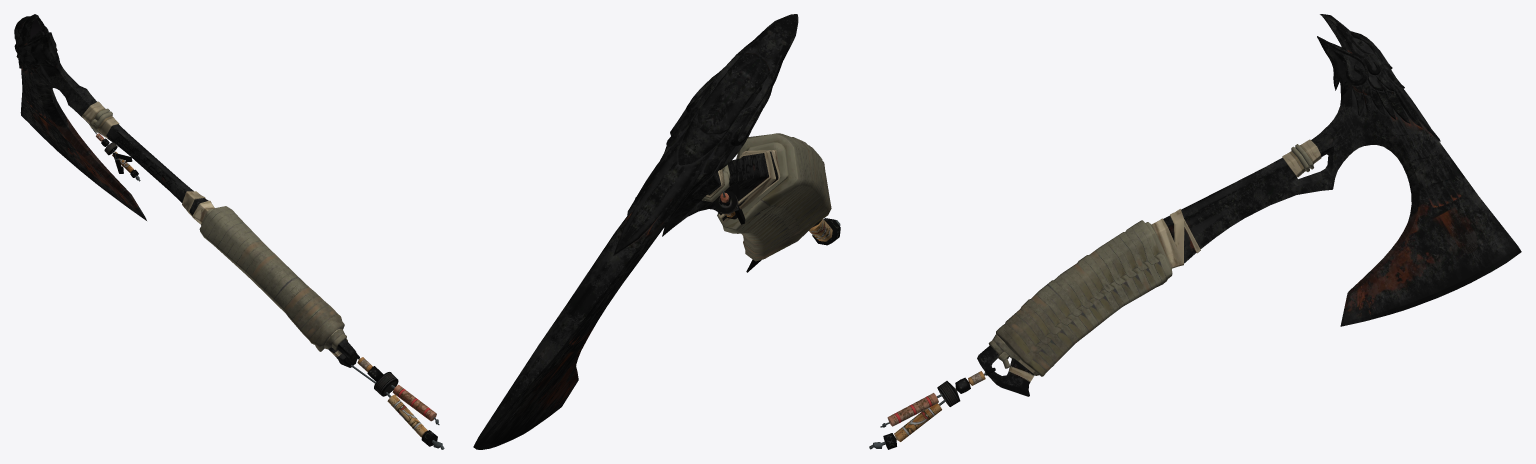
3 views of the same model, side by side, from view 1: azimuth 30°, elevation 25°; view 2: azimuth 150°, elevation 25°; view 3: azimuth 270°, elevation 25° (orthographic). The views are drawn at different scales.
Parts seen in each view (by area): view 1: body_0_bloodhound_tomahawk_bloodhound_tomahawk_0; view 2: body_0_bloodhound_tomahawk_bloodhound_tomahawk_0; view 3: body_0_bloodhound_tomahawk_bloodhound_tomahawk_0.
Boxes of the visible parts, <box> form: body_0_bloodhound_tomahawk_bloodhound_tomahawk_0: <box>14,14,444,449</box>; body_0_bloodhound_tomahawk_bloodhound_tomahawk_0: <box>473,14,840,449</box>; body_0_bloodhound_tomahawk_bloodhound_tomahawk_0: <box>869,14,1521,449</box>.
Size of the model in its own units: 6.4 by 9.85 by 17.23.
1 material, 1 textured.
